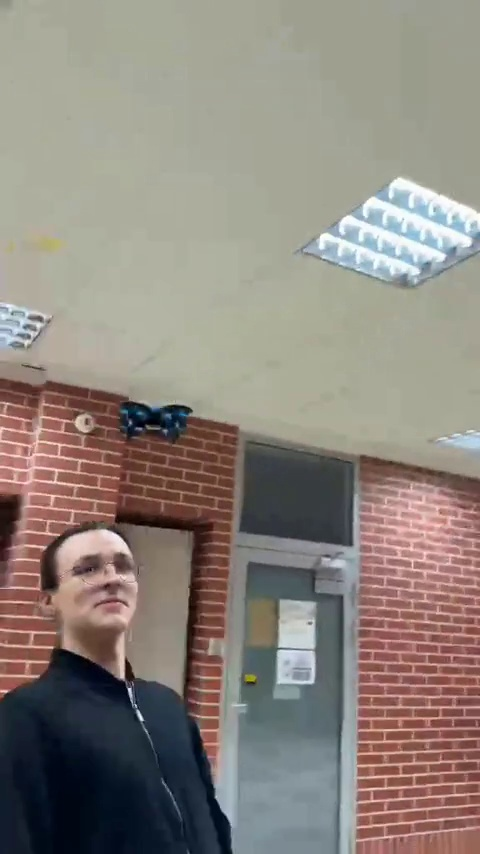drone: (113, 399, 194, 443)
no vest: (2, 520, 240, 854)
